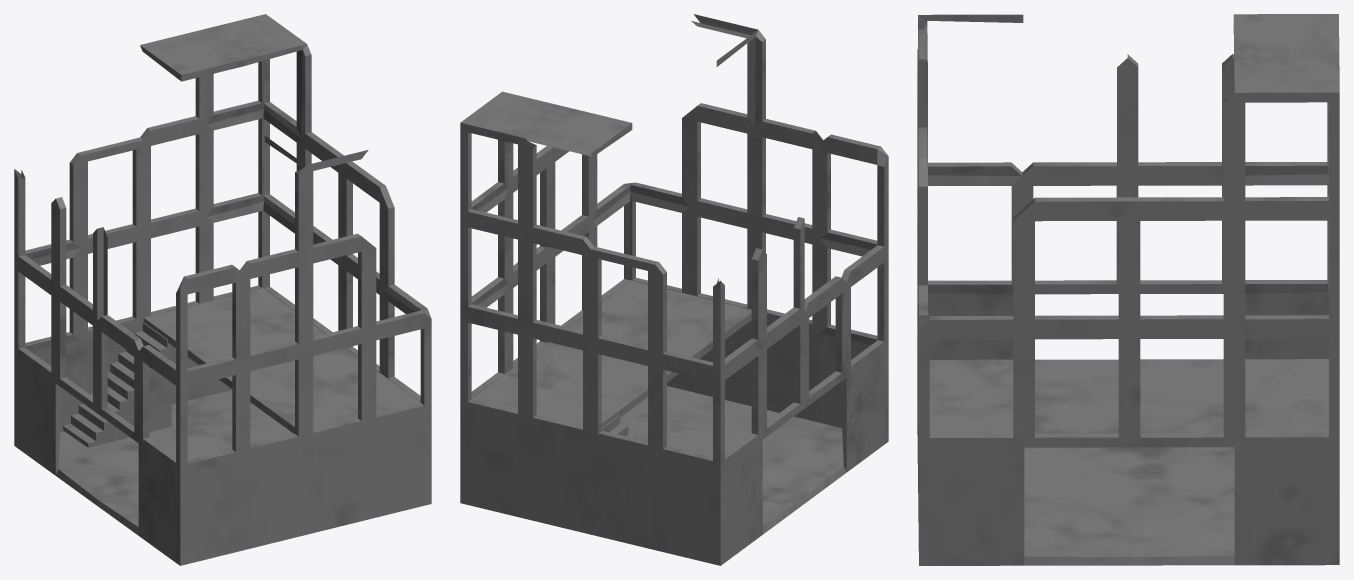
The model's file is ruin.glb.
3 renders of one model, left to right at view 1: azimuth 30°, elevation 25°; view 2: azimuth 150°, elevation 25°; view 3: azimuth 270°, elevation 25°, orthographic. The views are drawn at different scales.
Parts seen in each view (by area): view 1: predio quebrado; view 2: predio quebrado; view 3: predio quebrado.
Boxes of the visible parts, x1=… form: predio quebrado: x1=14, y1=14, x2=431, y2=565; predio quebrado: x1=460, y1=14, x2=888, y2=565; predio quebrado: x1=917, y1=14, x2=1339, y2=565.
Size of the model in its own units: 8.81 by 12.27 by 9.95.
1 material, 1 textured.
